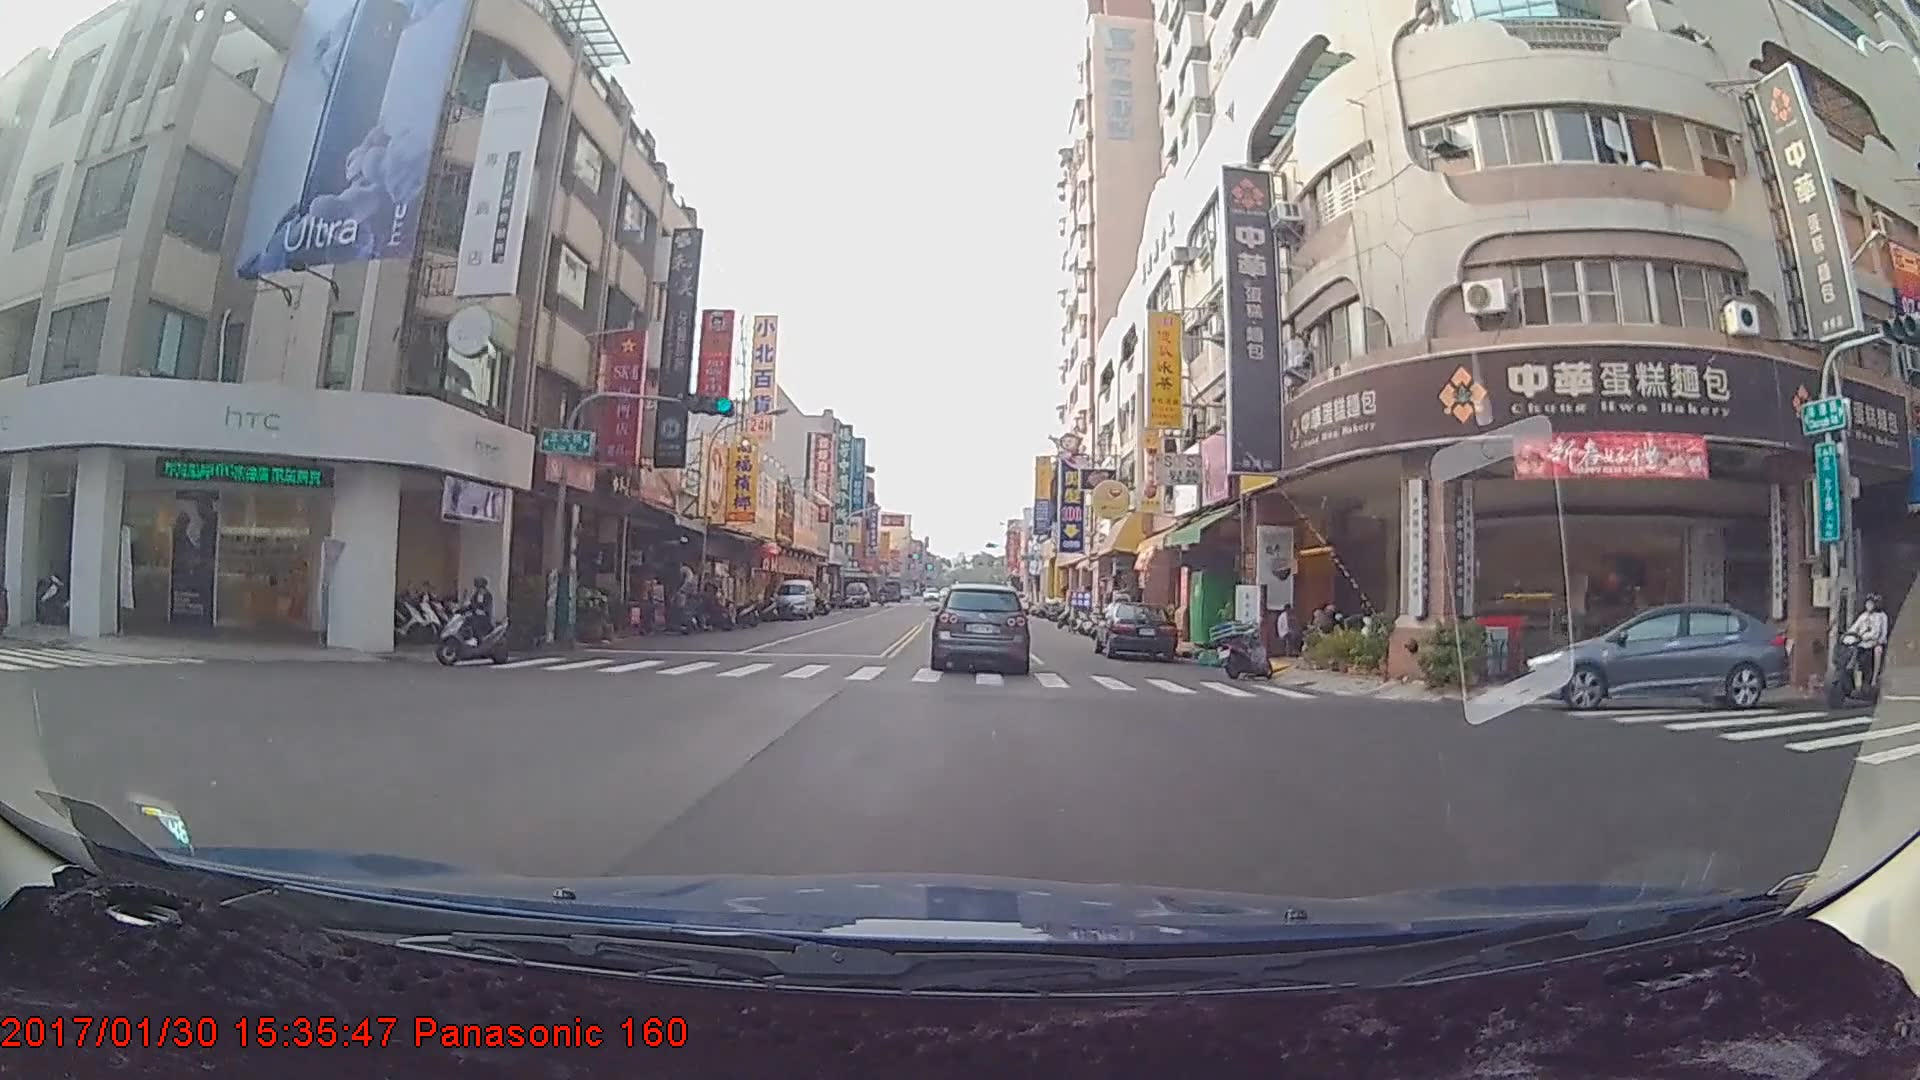pedestrian: (1273, 598, 1302, 656)
rider: (428, 567, 514, 670), (1826, 592, 1894, 717)
vehicle: (1517, 600, 1787, 710), (931, 584, 1029, 672), (1097, 600, 1177, 661), (768, 580, 814, 622), (841, 585, 869, 614)
